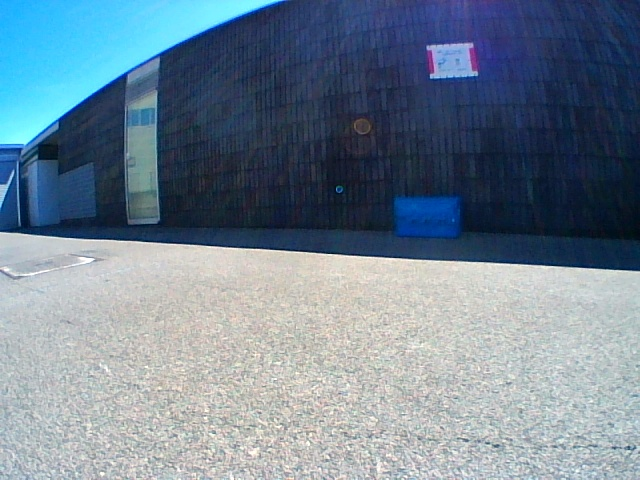blue_box: (395, 197, 460, 237)
